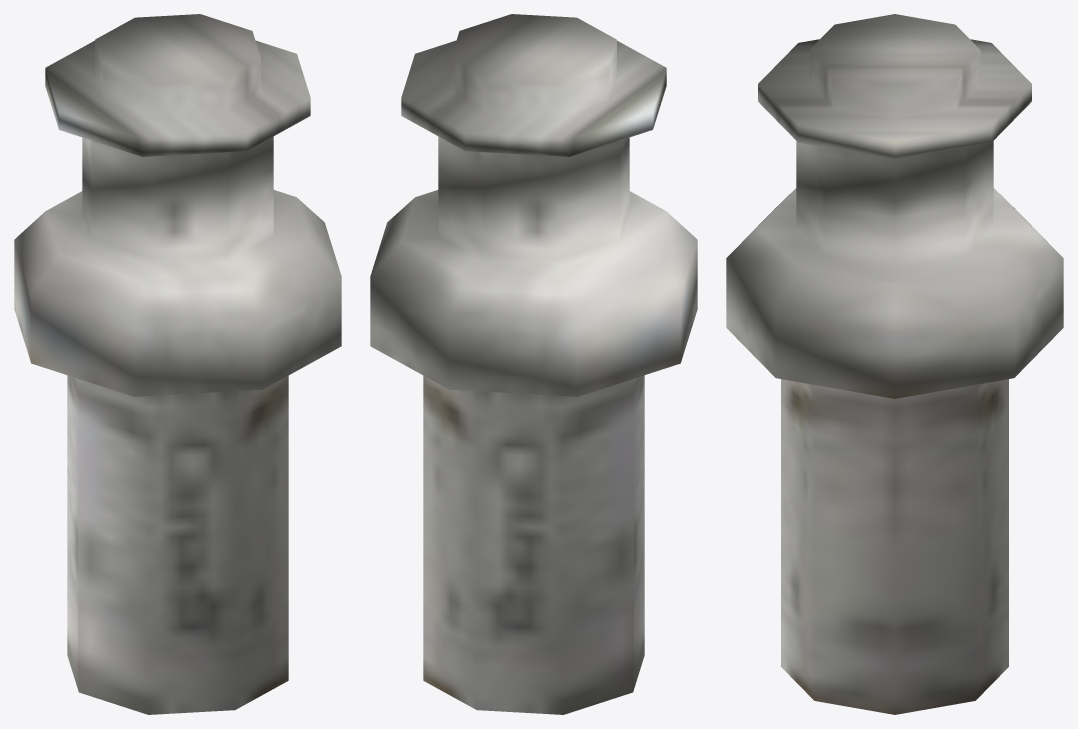
File: dextre_arm_2_wrist_roll.dae
3 views of the same model, side by side, from view 1: azimuth 30°, elevation 25°; view 2: azimuth 150°, elevation 25°; view 3: azimuth 270°, elevation 25° (orthographic).
Visible parts, largest first — view 1: 29 DEXTRE.009; view 2: 29 DEXTRE.009; view 3: 29 DEXTRE.009.
Part boxes in pixels (box(x1,y1,x2,y2)): 29 DEXTRE.009: box(14, 14, 341, 714); 29 DEXTRE.009: box(370, 14, 697, 714); 29 DEXTRE.009: box(726, 14, 1063, 714).
Size of the model in its own units: 0.4562 by 0.4562 by 0.9194.
1 material, 1 textured.
